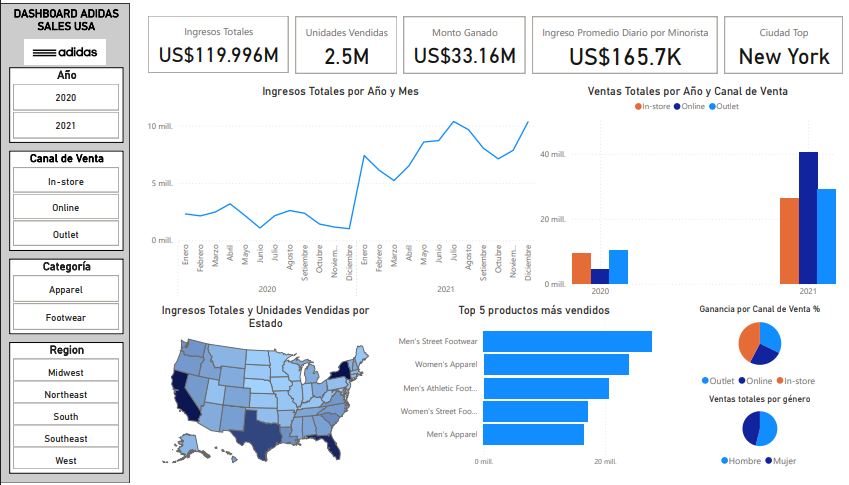

What the dashboard file says about the page in this screenshot:
{"tool":"powerbi","page":{"name":"Dashboard","canvas":[1280,720],"ordinal":0},"visuals":[{"type":"shape","box":[0,0,204.3,720],"z":0},{"type":"cardVisual","fields":{"Data":["Adidas_US_2.Ingresos Totales"]},"box":[216,17.1,222.1,95.2],"z":1000},{"type":"cardVisual","fields":{"Data":["Adidas_US_2.Margen Total"]},"box":[612.9,15.7,201.4,95],"z":2000},{"type":"cardVisual","fields":{"Data":["Adidas_US_2.Promedio Diario por Minorista"]},"box":[814.3,15.7,255.7,95],"z":3000},{"type":"cardVisual","fields":{"Data":["Adidas_US_2.Unidades Vendidas"]},"box":[437.1,15.7,175.7,95],"z":4000},{"type":"advancedSlicerVisual","title":"Métodos de Venta","fields":{"Values":["Adidas_US_2.Sales Method"]},"box":[14.3,345.7,170,150],"z":5000},{"type":"advancedSlicerVisual","fields":{"Values":["Adidas_US_2.Region"]},"box":[14.3,501.4,170,202.9],"z":6000},{"type":"textbox","box":[14.3,15.7,170,124.3],"z":7000},{"type":"advancedSlicerVisual","title":"Año","fields":{"Values":["Adidas_US_2.Invoice Date.Variación.Jerarquía de fechas.Año"]},"box":[13.9,223.6,170.8,112.5],"z":8000},{"type":"image","box":[12.5,112.5,170.8,84.7],"z":9000},{"type":"shapeMap","fields":{"Value":["Adidas_US_2.Ventas Totales"],"Category":["Adidas_US_2.State"]},"box":[216,450.3,364.9,253.8],"z":10000},{"type":"areaChart","fields":{"Y":["Adidas_US_2.Ventas Totales"],"Category":["Adidas_US_2.Año","Adidas_US_2.Invoice Date.Variación.Jerarquía de fechas.Mes"]},"box":[216,120.8,589.4,329.5],"z":11000},{"type":"clusteredColumnChart","fields":{"Category":["Adidas_US_2.Año"],"Series":["Adidas_US_2.Sales Method"],"Y":["Adidas_US_2.Ventas Totales"]},"box":[805.4,120.8,452.7,329.5],"z":12000},{"type":"clusteredBarChart","title":"Top 5 productos más vendidos","fields":{"Category":["Adidas_US_2.Product"],"Y":["Adidas_US_2.Ventas Totales"]},"box":[580.9,450.3,439.3,253.8],"z":13000},{"type":"donutChart","title":"Ganancia por Método de Venta %","fields":{"Category":["Adidas_US_2.Sales Method"],"Y":["Adidas_US_2.Rentabilidad"]},"box":[1020.2,450.3,238,134.2],"z":14000},{"type":"donutChart","title":"Ventas totales por género","fields":{"Category":["Adidas_US_2.Género"],"Y":["Adidas_US_2.Ventas Totales"]},"box":[1020.2,584.5,238,119.6],"z":15000},{"type":"cardVisual","fields":{"Data":["Adidas_US_2.Producto Top"]},"box":[1070.8,16.5,196.8,95],"z":16000}]}

Visuals, with their boxes in screenshot pixels (x1, y1, x2, y2), scaled from the page's 1280x720 canvas onto the 849x485 screenshot:
shape: {"x1": 0, "y1": 0, "x2": 136, "y2": 484}
cardVisual - Adidas_US_2.Ingresos Totales: {"x1": 143, "y1": 12, "x2": 291, "y2": 76}
cardVisual - Adidas_US_2.Margen Total: {"x1": 407, "y1": 11, "x2": 540, "y2": 75}
cardVisual - Adidas_US_2.Promedio Diario por Minorista: {"x1": 540, "y1": 11, "x2": 710, "y2": 75}
cardVisual - Adidas_US_2.Unidades Vendidas: {"x1": 290, "y1": 11, "x2": 406, "y2": 75}
"Métodos de Venta" advancedSlicerVisual: {"x1": 9, "y1": 233, "x2": 122, "y2": 334}
advancedSlicerVisual - Adidas_US_2.Region: {"x1": 9, "y1": 338, "x2": 122, "y2": 474}
textbox: {"x1": 9, "y1": 11, "x2": 122, "y2": 94}
"Año" advancedSlicerVisual: {"x1": 9, "y1": 151, "x2": 123, "y2": 226}
image: {"x1": 8, "y1": 76, "x2": 122, "y2": 133}
shapeMap - Adidas_US_2.Ventas Totales x Adidas_US_2.State: {"x1": 143, "y1": 303, "x2": 385, "y2": 474}
areaChart - Adidas_US_2.Ventas Totales x Adidas_US_2.Año: {"x1": 143, "y1": 81, "x2": 534, "y2": 303}
clusteredColumnChart - Adidas_US_2.Año x Adidas_US_2.Sales Method: {"x1": 534, "y1": 81, "x2": 834, "y2": 303}
"Top 5 productos más vendidos" clusteredBarChart: {"x1": 385, "y1": 303, "x2": 677, "y2": 474}
"Ganancia por Método de Venta %" donutChart: {"x1": 677, "y1": 303, "x2": 835, "y2": 394}
"Ventas totales por género" donutChart: {"x1": 677, "y1": 394, "x2": 835, "y2": 474}
cardVisual - Adidas_US_2.Producto Top: {"x1": 710, "y1": 11, "x2": 841, "y2": 75}
